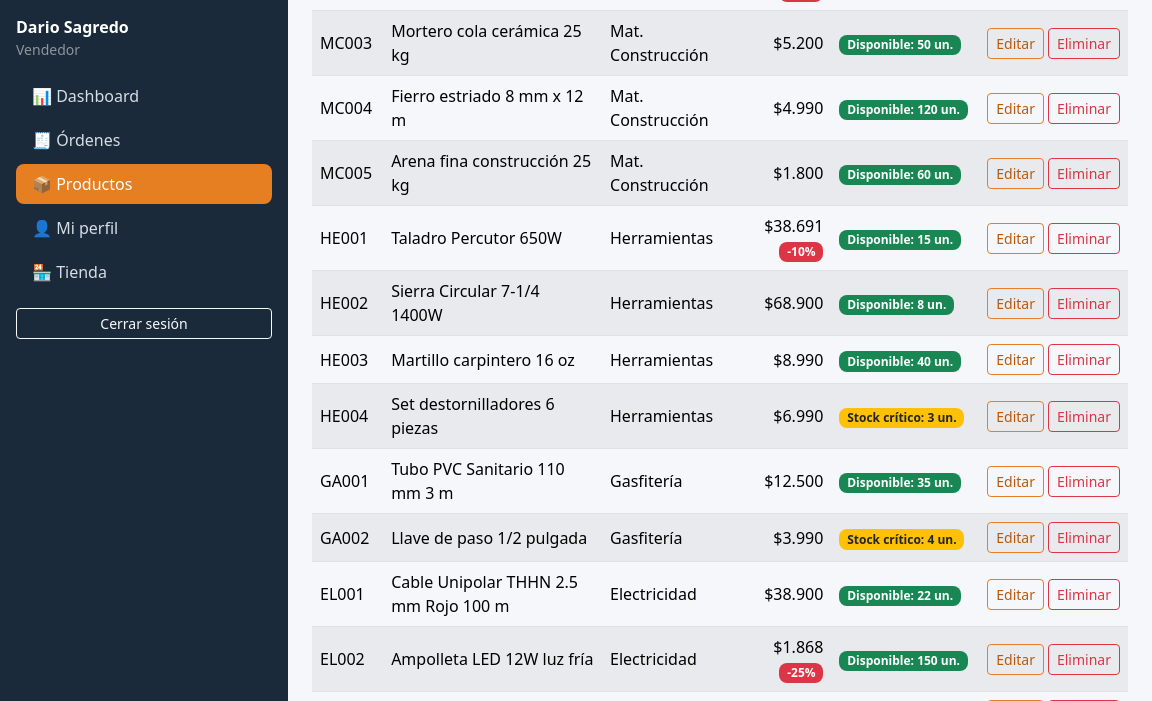
Scenario: Productos (CRUD) › el Vendedor sí puede gestionar productos
(page scrolled)
Click the link named "Editar Martillo carpintero 16 oz".
click(1016, 360)  # box [987,344,1044,375]
(page scrolled)
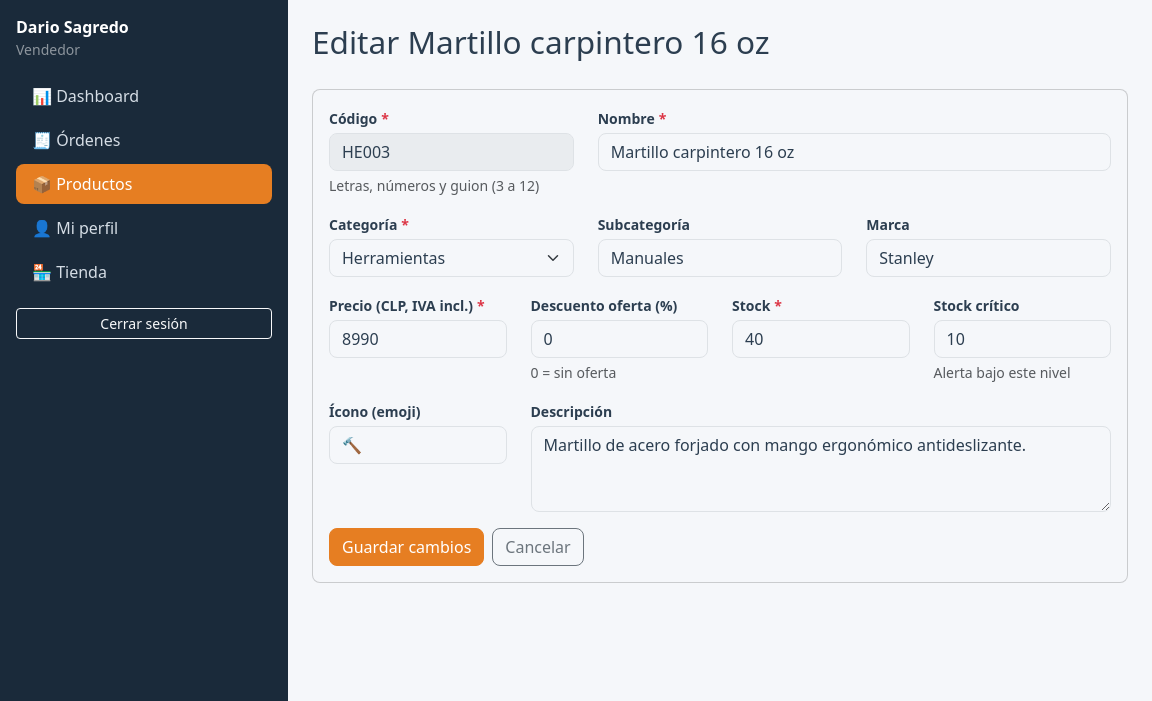
Check: the field labelled "Nombre*" holds "Martillo carpintero 16 oz", box [598,133,1111,171]
